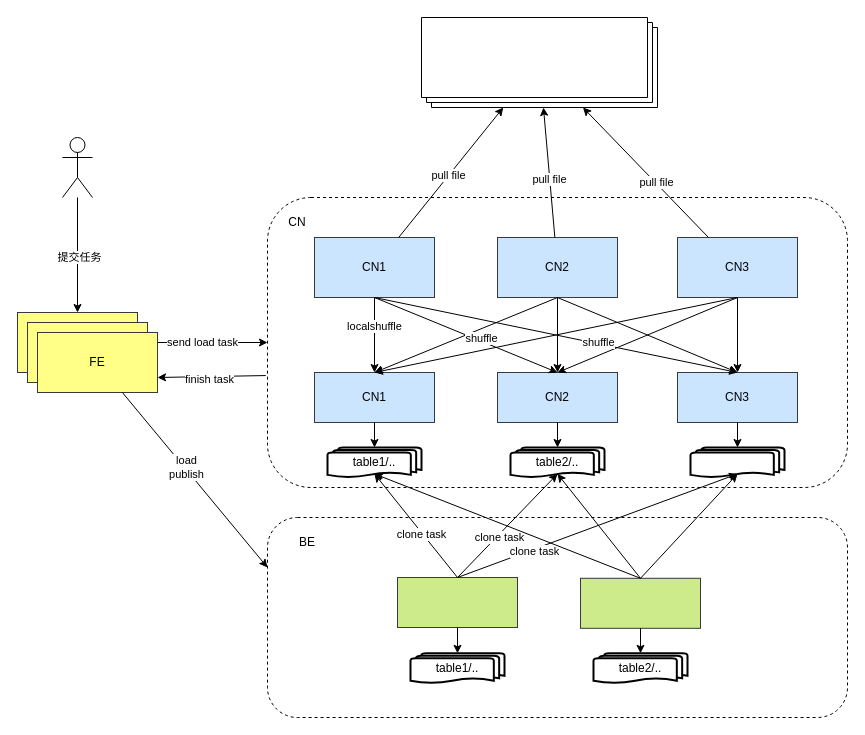
Image size: 865x735. Some labels were removed from this diagram. Each missing label, with the centre of its shape:
Actor: (77,167)
BE1: (457,602)
BE2: (640,602)
HDFS: (539,62)
table3/..: (737,462)
